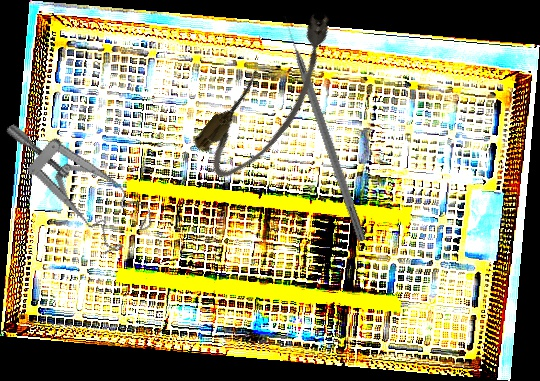Cannula: (186, 0, 360, 190)
Hook Surgical: (279, 13, 369, 243)
Speculum: (4, 86, 160, 272)
